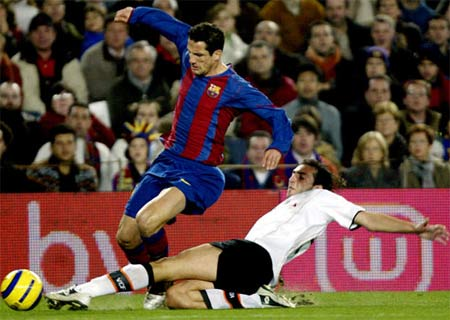10+: (1, 1, 450, 320)
down: (41, 162, 450, 313)
